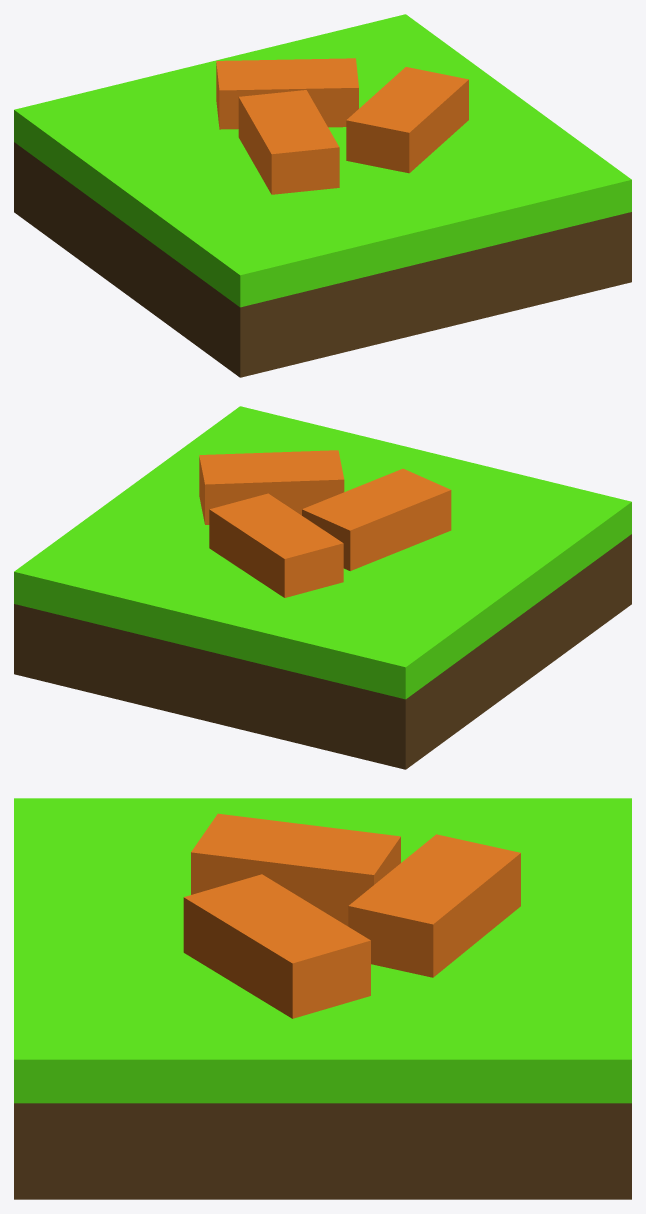
The model's file is Bricks2.glb.
The picture shows the model from 3 angles, top to bottom: view 1: azimuth 30°, elevation 25°; view 2: azimuth 150°, elevation 25°; view 3: azimuth 270°, elevation 25°; orthographic projection. The views are drawn at different scales.
Visible parts, largest first — view 1: Cube, Cube.003; view 2: Cube, Cube.003; view 3: Cube, Cube.003.
Boxes of the visible parts, x1,y1,x2,y2 form: Cube: (14,14,631,377); Cube.003: (216,58,468,194); Cube: (14,406,631,769); Cube.003: (199,450,451,597); Cube: (14,798,631,1199); Cube.003: (183,813,520,1018).
Bounding box in the file's own units: 2 × 0.6979 × 2.
